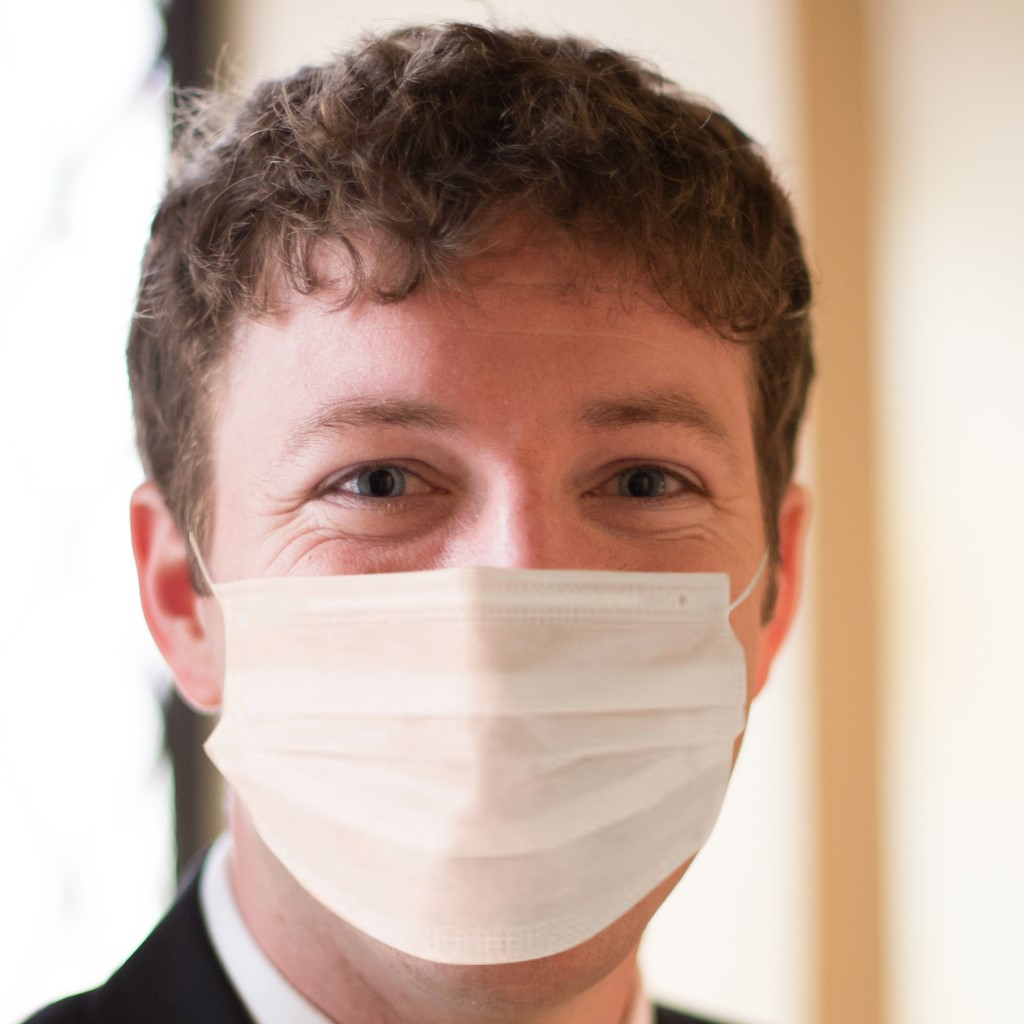con_mascara: (178, 149, 762, 952)
